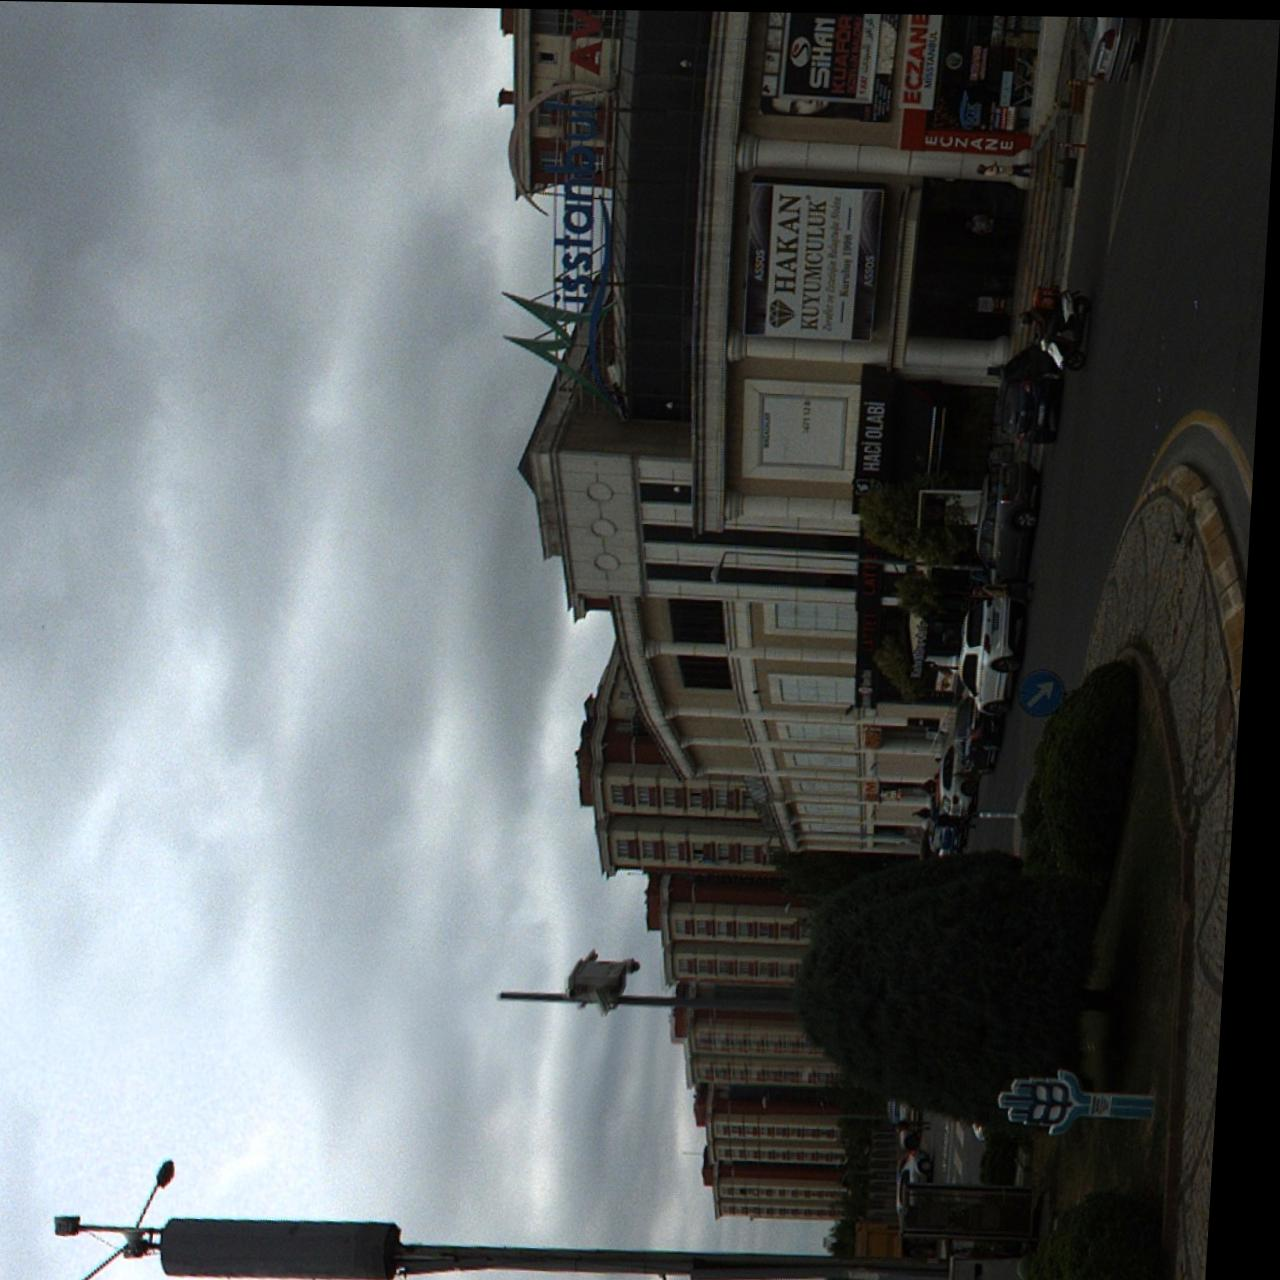SignStore: (858, 360, 905, 510), (900, 11, 944, 107), (866, 531, 891, 651), (920, 617, 937, 674), (864, 665, 885, 703), (870, 723, 891, 745), (873, 777, 890, 798)
